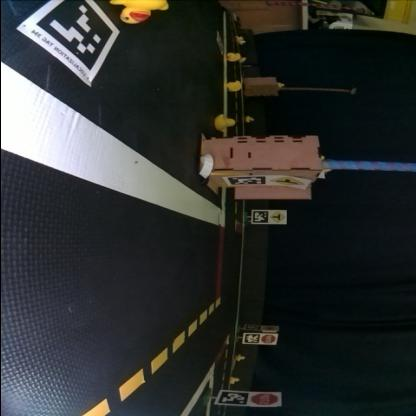Duckie: (110, 2, 168, 24), (214, 116, 235, 132), (227, 82, 241, 92), (227, 52, 241, 62), (237, 356, 245, 362), (246, 117, 254, 123), (278, 83, 286, 89), (231, 379, 239, 384), (238, 40, 245, 43)
Intersection sign: (270, 177, 304, 187), (271, 211, 285, 223), (263, 326, 277, 332)
QR code: (18, 2, 118, 86), (218, 391, 247, 406), (227, 177, 265, 185), (253, 212, 269, 224), (244, 335, 260, 344), (245, 326, 259, 332)
Stop sign: (251, 394, 279, 406), (261, 336, 274, 344)
